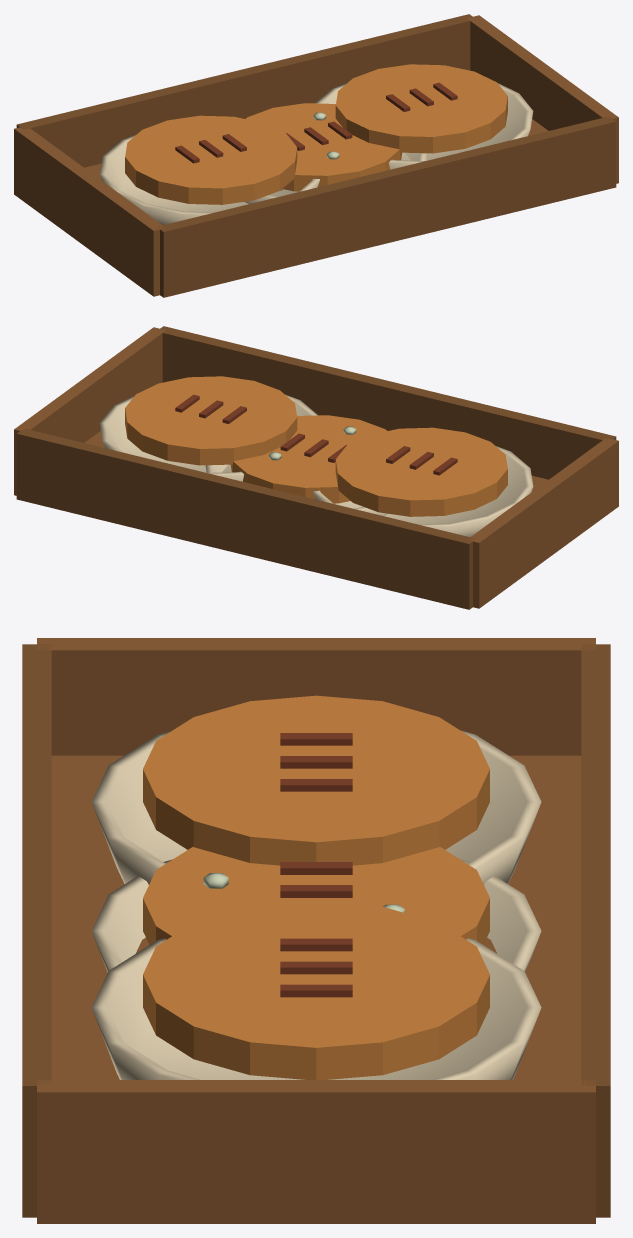
File: Pie_Meat.fbx
3 renders of one model, top to bottom at view 1: azimuth 30°, elevation 25°; view 2: azimuth 150°, elevation 25°; view 3: azimuth 270°, elevation 25°, orthographic. The views are drawn at different scales.
Visible parts, largest first — view 1: Pie_Meat__Stack, Pie_Meat; view 2: Pie_Meat__Stack, Pie_Meat; view 3: Pie_Meat__Stack, Pie_Meat.
Boxes of the visible parts, x1,y1,x2,y2 form: Pie_Meat__Stack: (14, 14, 618, 297); Pie_Meat: (244, 103, 427, 203); Pie_Meat__Stack: (14, 326, 618, 609); Pie_Meat: (205, 415, 388, 515); Pie_Meat__Stack: (22, 638, 610, 1223); Pie_Meat: (91, 847, 541, 972).
Bounding box in the file's own units: 0.296 × 0.041 × 0.162.
